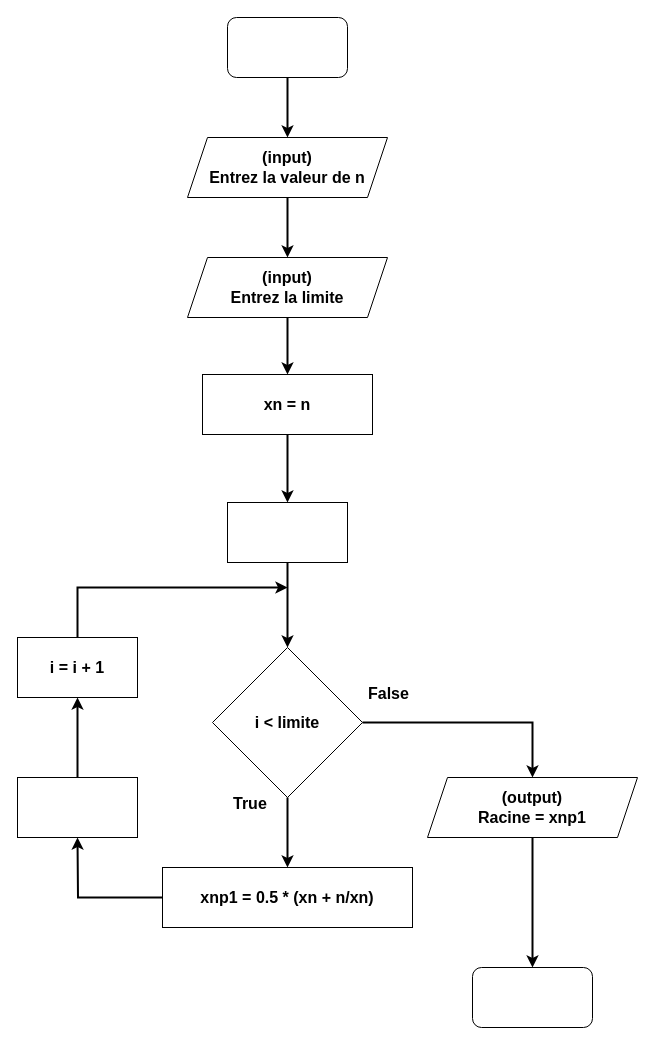
This 655x1045 diagram has some shape labels left out. Each missing label, with the centre of its shape:
"DEBUT" goes at pixel 287 47.
"FIN" goes at pixel 532 997.
"i = 0" goes at pixel 287 532.
"xn = xnp1" goes at pixel 77 807.
